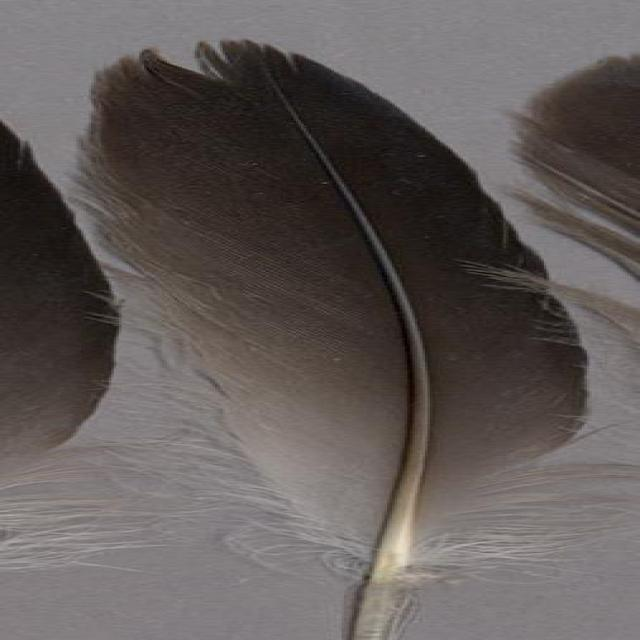feather: (88, 38, 640, 639)
